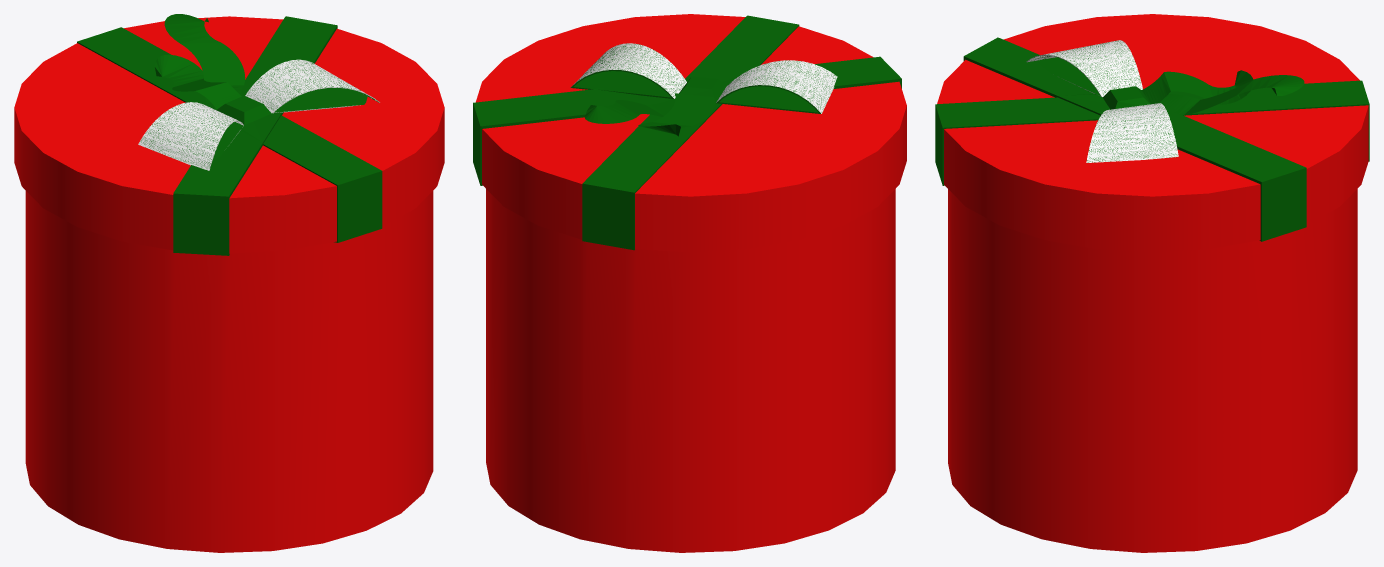
File: gift.dae
The picture shows the model from 3 angles, left to right: view 1: azimuth 30°, elevation 25°; view 2: azimuth 150°, elevation 25°; view 3: azimuth 270°, elevation 25°; orthographic projection.
Visible parts, largest first — view 1: SketchUp (×6); view 2: SketchUp (×7); view 3: SketchUp (×6).
Boxes of the visible parts, x1,y1,x2,y2 form: SketchUp (×6): [14, 14, 444, 552]; SketchUp (×7): [473, 14, 906, 552]; SketchUp (×6): [935, 14, 1369, 552].
Size of the model in its own units: 64.14 by 64.45 by 64.99.
